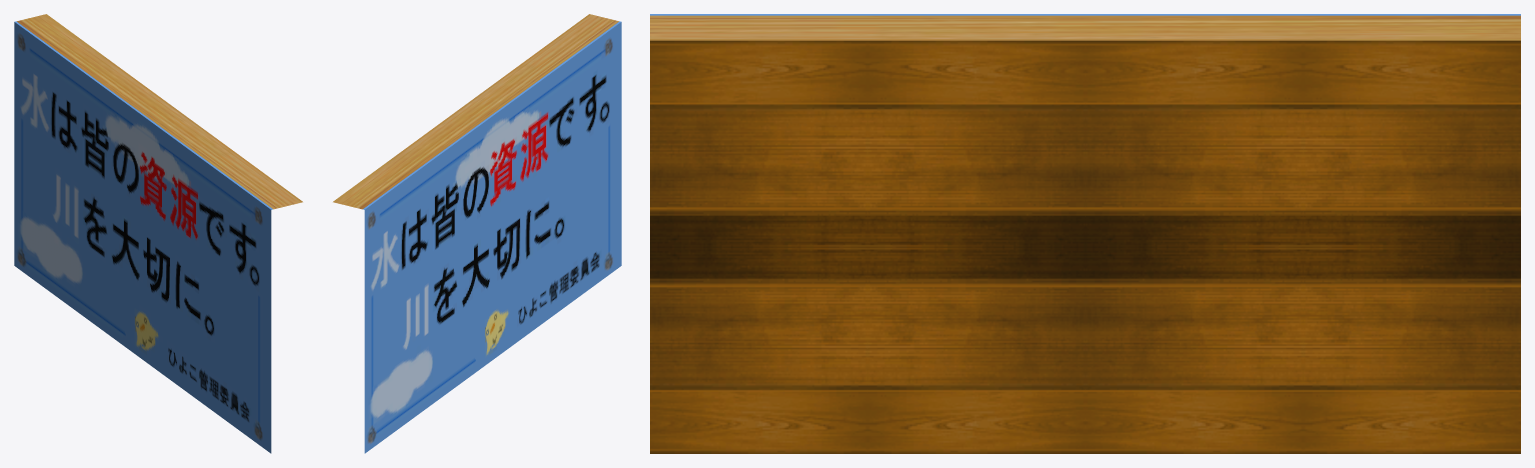
The picture shows the model from 3 angles, left to right: view 1: azimuth 30°, elevation 25°; view 2: azimuth 150°, elevation 25°; view 3: azimuth 270°, elevation 25°; orthographic projection. The views are drawn at different scales.
Parts seen in each view (by area): view 1: Joint_0_Object_0, Joint_0_Object_1; view 2: Joint_0_Object_0, Joint_0_Object_1; view 3: Joint_0_Object_2, Joint_0_Object_1, Joint_0_Object_0.
Part boxes in pixels (bbox=[...]): Joint_0_Object_0: bbox=[14, 21, 272, 453]; Joint_0_Object_1: bbox=[17, 14, 302, 209]; Joint_0_Object_0: bbox=[363, 21, 621, 453]; Joint_0_Object_1: bbox=[333, 14, 618, 209]; Joint_0_Object_2: bbox=[650, 40, 1520, 453]; Joint_0_Object_1: bbox=[650, 15, 1520, 40]; Joint_0_Object_0: bbox=[650, 14, 1520, 15].
Bounding box in the file's own units: 85.63 × 621 × 1186.
Materials: 3 (3 with a texture image).
